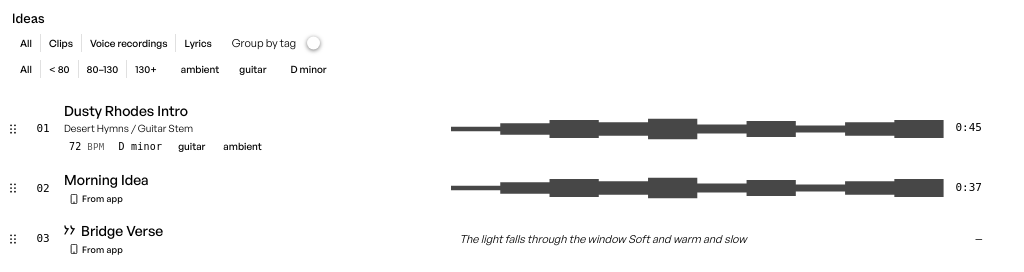
Test: IdeasLibrary — kind segmented › selecting Lyrics shows only lyric ideas
Click the radio button labelled "Lyrics": (198, 43) [176, 34, 220, 52]
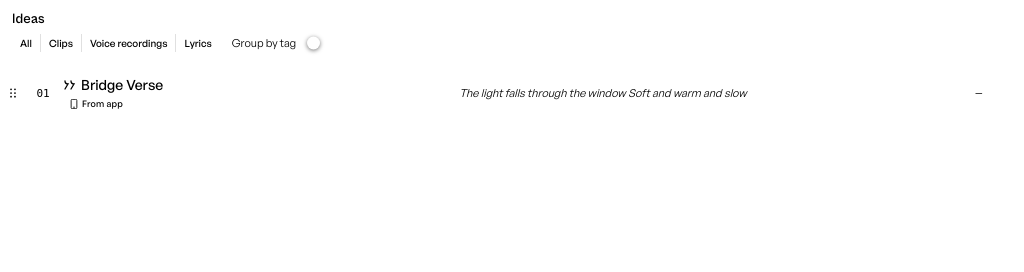
expect the text "Bridge Verse" is shown: met, box [81, 76, 163, 94]
expect the number of list items with test id "idea-row" is 1: met, box [0, 68, 1023, 118]
